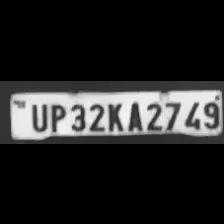2: (144, 98, 162, 130), (86, 100, 104, 130)
3: (66, 100, 86, 130)
4: (180, 97, 200, 129)
7: (161, 98, 179, 130)
9: (200, 97, 220, 129)
A: (124, 98, 142, 130)
K: (104, 99, 124, 130)
P: (46, 100, 66, 132)
U: (27, 100, 47, 132)
